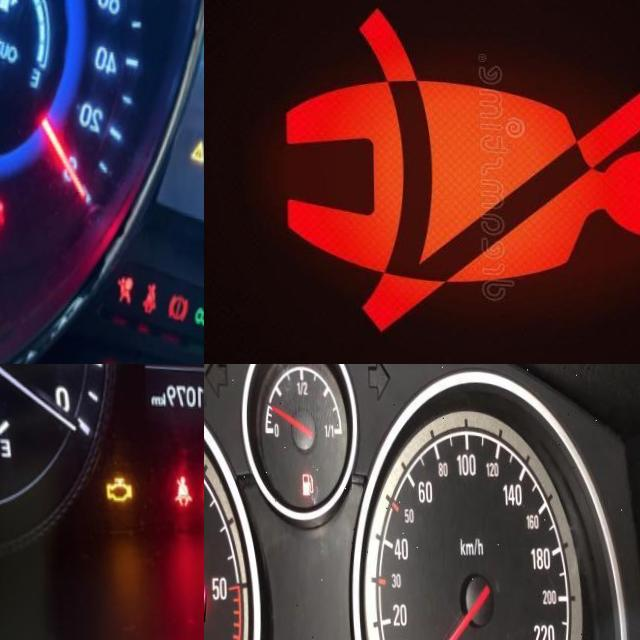Central Warning lamp: (184, 129, 204, 166)
Doors: (0, 189, 11, 244)
Seat Belt: (287, 0, 640, 343), (171, 467, 192, 506)
